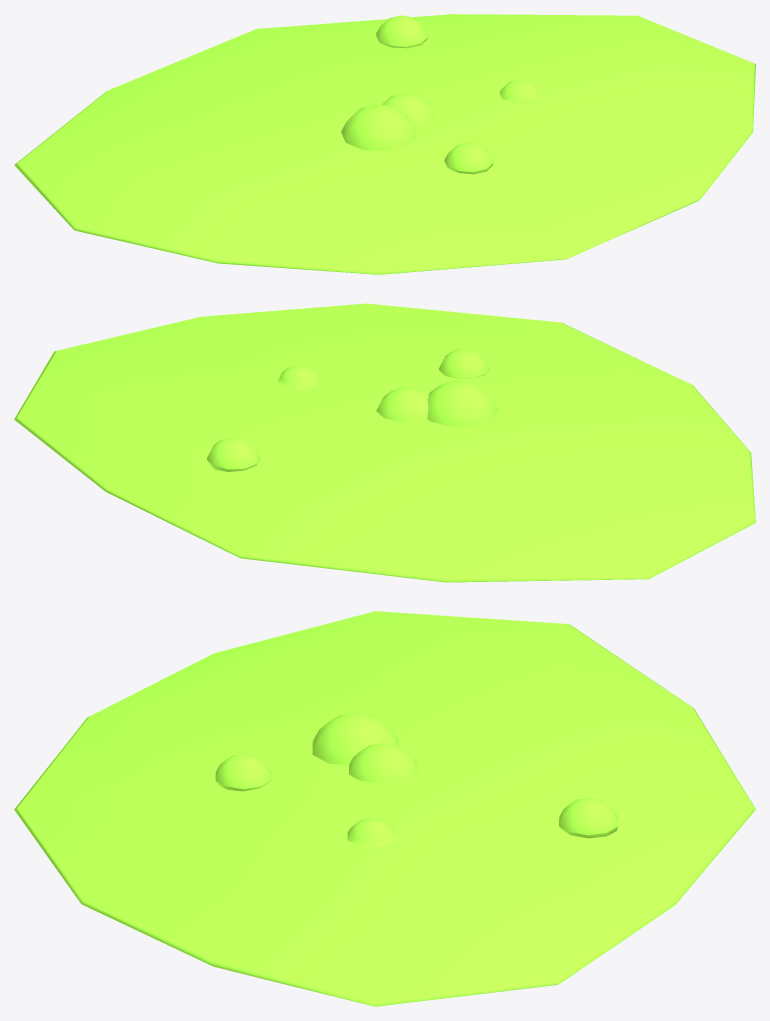
The model's file is schmutz_schleim_1.fbx.
3 views of the same model, one above another, from view 1: azimuth 30°, elevation 25°; view 2: azimuth 150°, elevation 25°; view 3: azimuth 270°, elevation 25° (orthographic). The views are drawn at different scales.
Parts seen in each view (by area): view 1: schmutz_schleim_1_Koerper; view 2: schmutz_schleim_1_Koerper; view 3: schmutz_schleim_1_Koerper.
Part boxes in pixels (box(x1,y1,x2,y2)): schmutz_schleim_1_Koerper: box(14, 14, 755, 274); schmutz_schleim_1_Koerper: box(14, 303, 755, 582); schmutz_schleim_1_Koerper: box(14, 611, 755, 1006).
Size of the model in its own units: 1.41 by 0.173 by 1.12.
